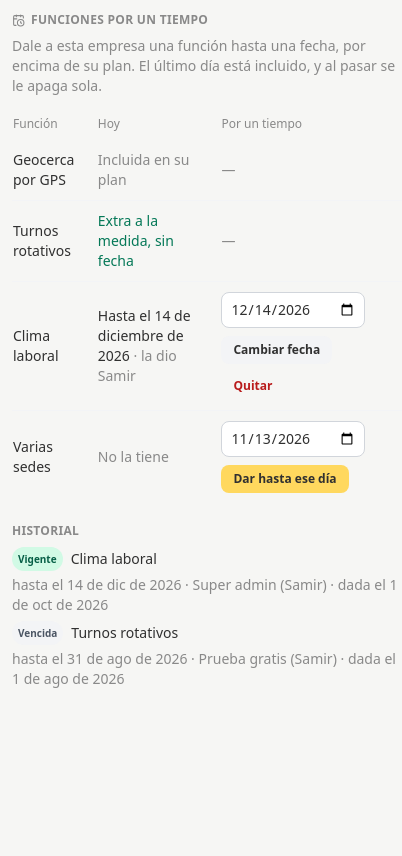
Scenario: FuncionesConFecha › si el servidor no acepta, dice por qué y no avisa de un cambio
Click the button "Dar hasta ese día". click: (285, 479)
box: [222, 465, 349, 493]
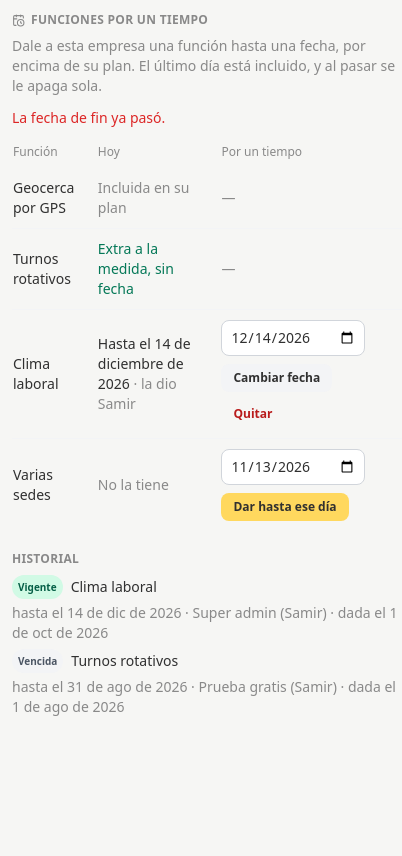
Result: the text "La fecha de fin ya pasó." is shown at [12, 108, 165, 127]
